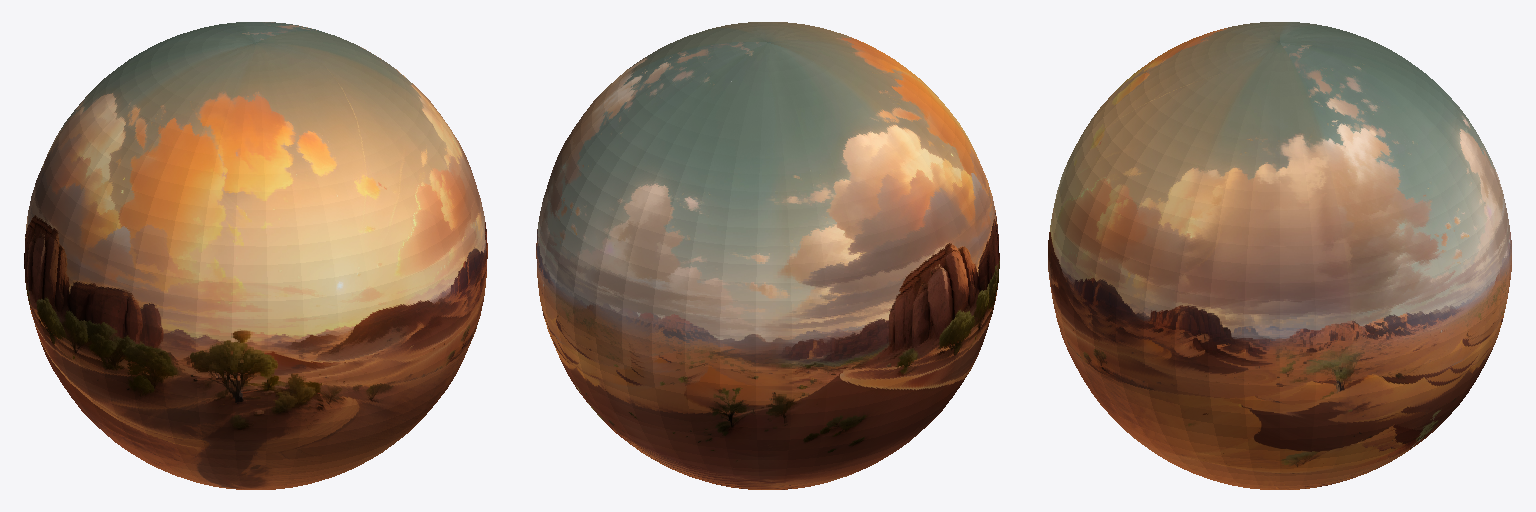
3 renders of one model, left to right at view 1: azimuth 30°, elevation 25°; view 2: azimuth 150°, elevation 25°; view 3: azimuth 270°, elevation 25°, orthographic.
Visible parts, largest first — view 1: object_0; view 2: object_0; view 3: object_0.
Part boxes in pixels (left/top/right/bottom): object_0: left=24, top=22, right=487, bottom=489; object_0: left=536, top=22, right=999, bottom=489; object_0: left=1048, top=22, right=1511, bottom=489.
Bounding box in the file's own units: 1295 × 1314 × 1295.
1 materials, 1 textured.